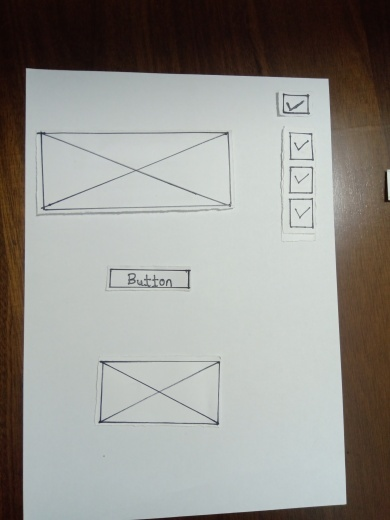button: (110, 266, 191, 294)
checkbox: (280, 90, 310, 119), (289, 201, 314, 227), (284, 165, 309, 191), (293, 134, 311, 157)
img: (39, 135, 232, 211), (97, 356, 222, 431)
